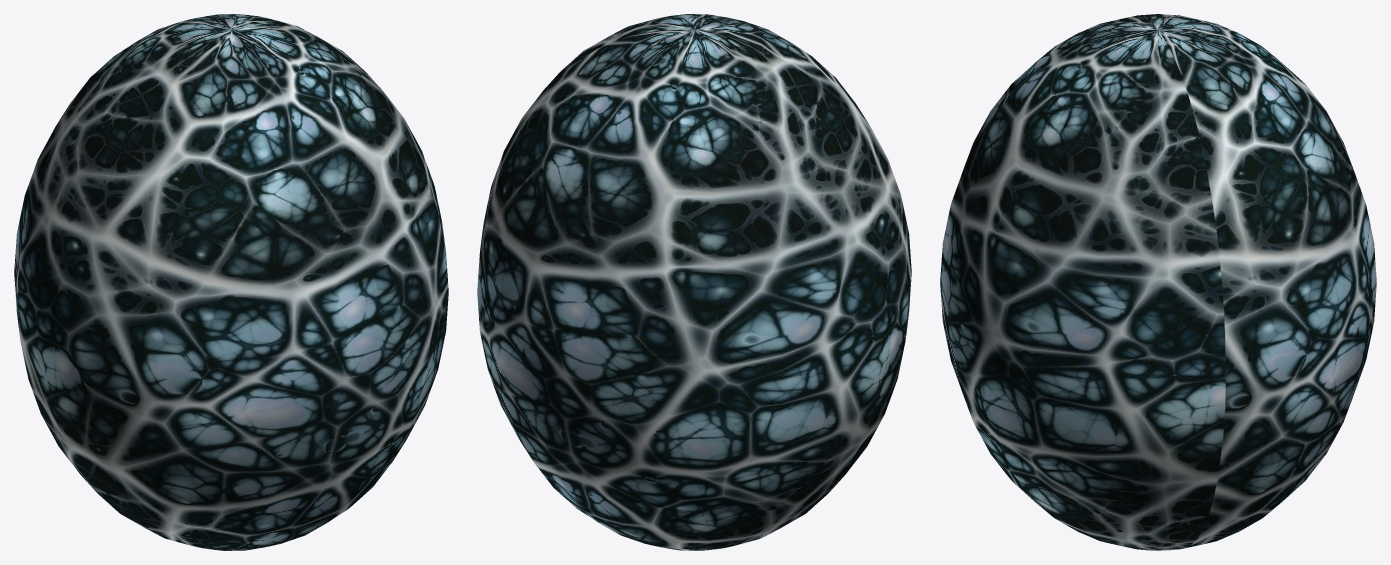
File: alieneggs1.fbx
3 views of the same model, side by side, from view 1: azimuth 30°, elevation 25°; view 2: azimuth 150°, elevation 25°; view 3: azimuth 270°, elevation 25° (orthographic).
Parts seen in each view (by area): view 1: pSphere1; view 2: pSphere1; view 3: pSphere1.
Part boxes in pixels (box(x1,y1,x2,y2)): pSphere1: box(14, 14, 448, 550); pSphere1: box(477, 14, 911, 550); pSphere1: box(940, 14, 1376, 550).
Bounding box in the file's own units: 5.78 × 7.37 × 5.78.
1 material, 1 textured.
